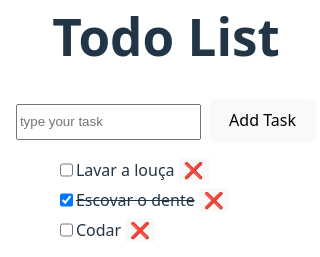
Test: TodoList › should delete task when clicking delete button
The image size is (320, 257).
Click the button "❌" next to "Lavar a louça" at (194, 170), box [179,158,209,182]
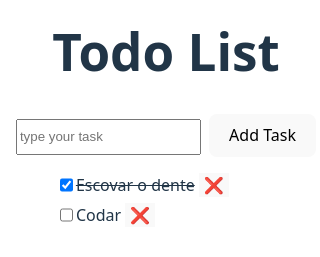
Check: the text "Lavar a louça" is gone
